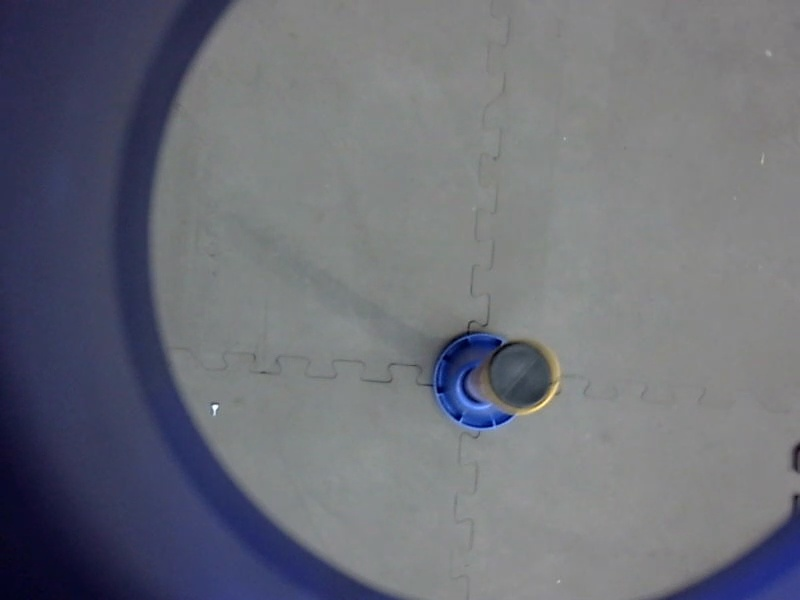tip: (480, 334, 567, 420)
